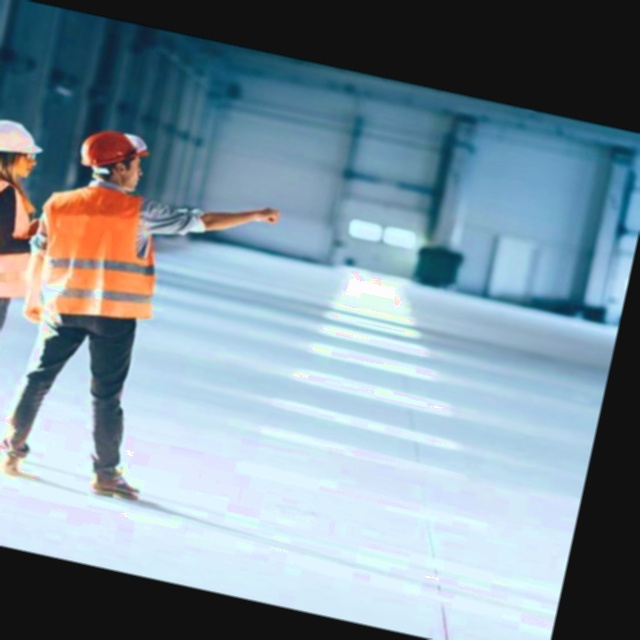Con_Chaleco: (22, 179, 169, 334), (0, 170, 46, 306)
